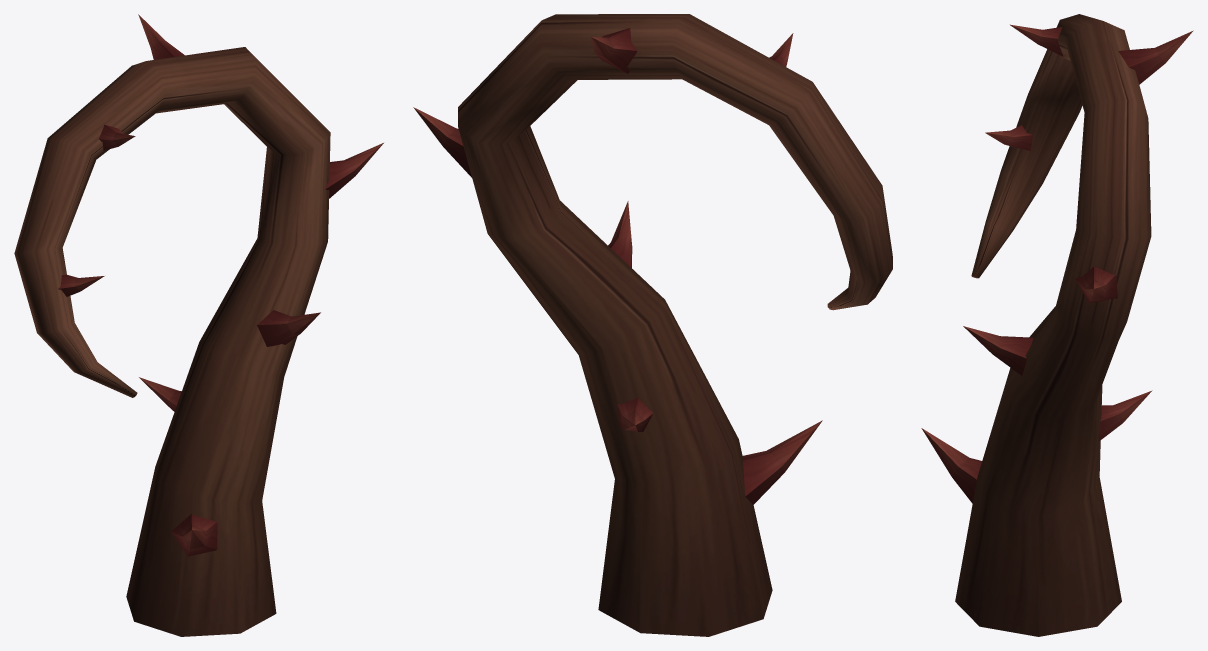
The model's file is plant_b8.fbx.
3 views of the same model, side by side, from view 1: azimuth 30°, elevation 25°; view 2: azimuth 150°, elevation 25°; view 3: azimuth 270°, elevation 25° (orthographic). The views are drawn at different scales.
Parts seen in each view (by area): view 1: plant_b8:Mesh; view 2: plant_b8:Mesh; view 3: plant_b8:Mesh.
Part boxes in pixels (bbox=[...]): plant_b8:Mesh: bbox=[14, 14, 383, 636]; plant_b8:Mesh: bbox=[413, 14, 892, 636]; plant_b8:Mesh: bbox=[921, 14, 1193, 636].
Size of the model in its own units: 11.49 by 15.3 by 6.57.
